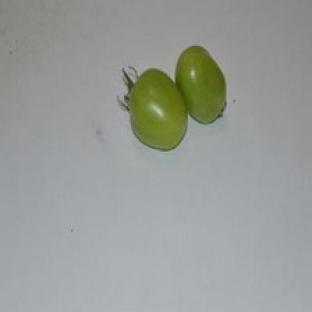Tomato: (124, 69, 188, 150), (176, 46, 225, 123)
